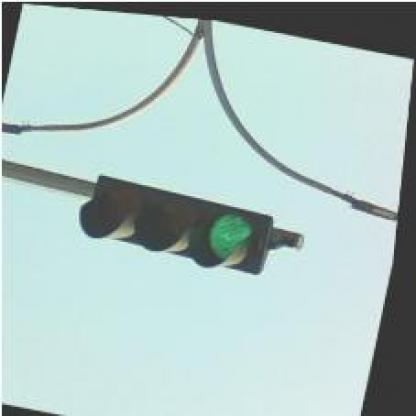green: (78, 170, 281, 273)
